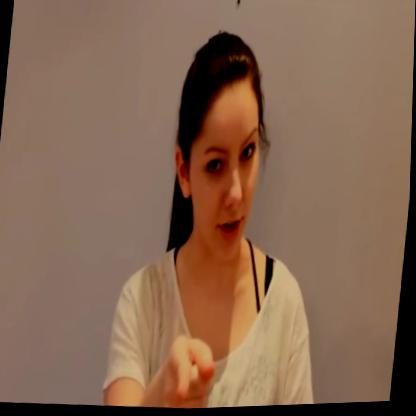HowAreYou: (142, 311, 235, 412)
